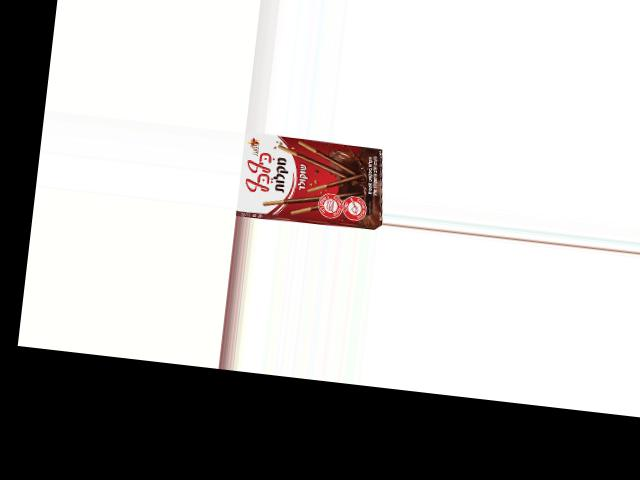chocolate: (236, 131, 381, 230)
